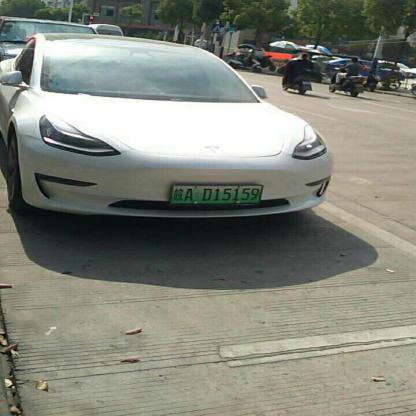lp: (171, 185, 264, 202)
